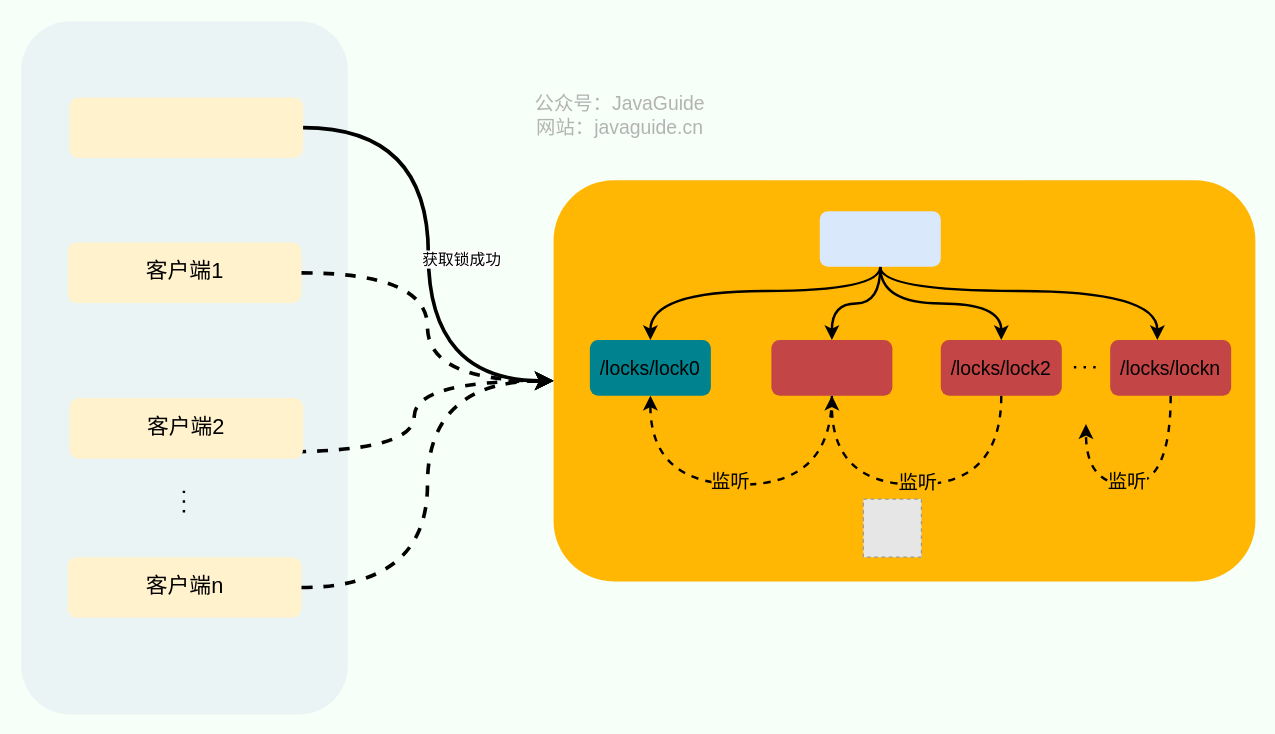
The diagram is 1275 pixels wide and 734 high, and some of its shapes have lost their labels. Grey dashed boxes stand in for pictures. Here are the shapes that lost their labels. From the top down, the box of each, then its label:
(69, 97, 302, 157): 客户端0
(819, 211, 940, 266): /locks
(771, 339, 892, 395): /locks/lock1
